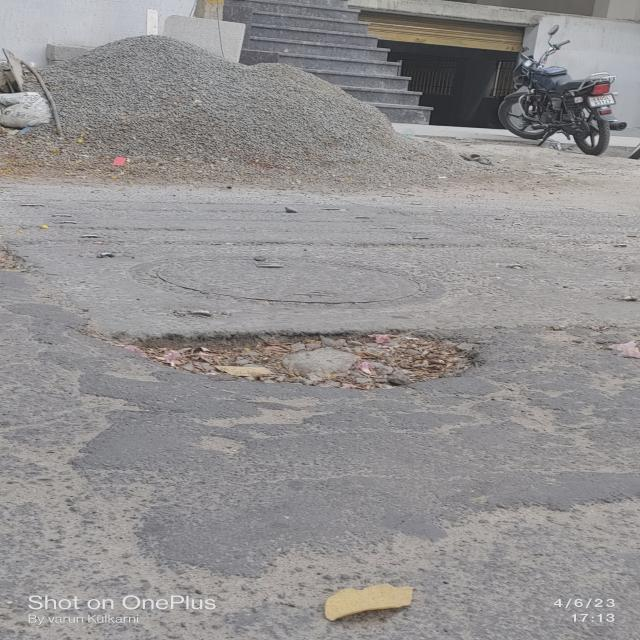potholes: (137, 318, 481, 392)
